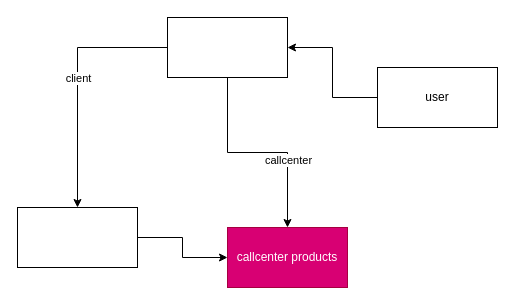
Some shapes in this 515 by 305 pixel diagram are drawn without their labels. Here are the shapes that lost their labels. From the top down, the centre of each, then its label:
At point 227,47: "tenant".
At point 77,237: "products".
